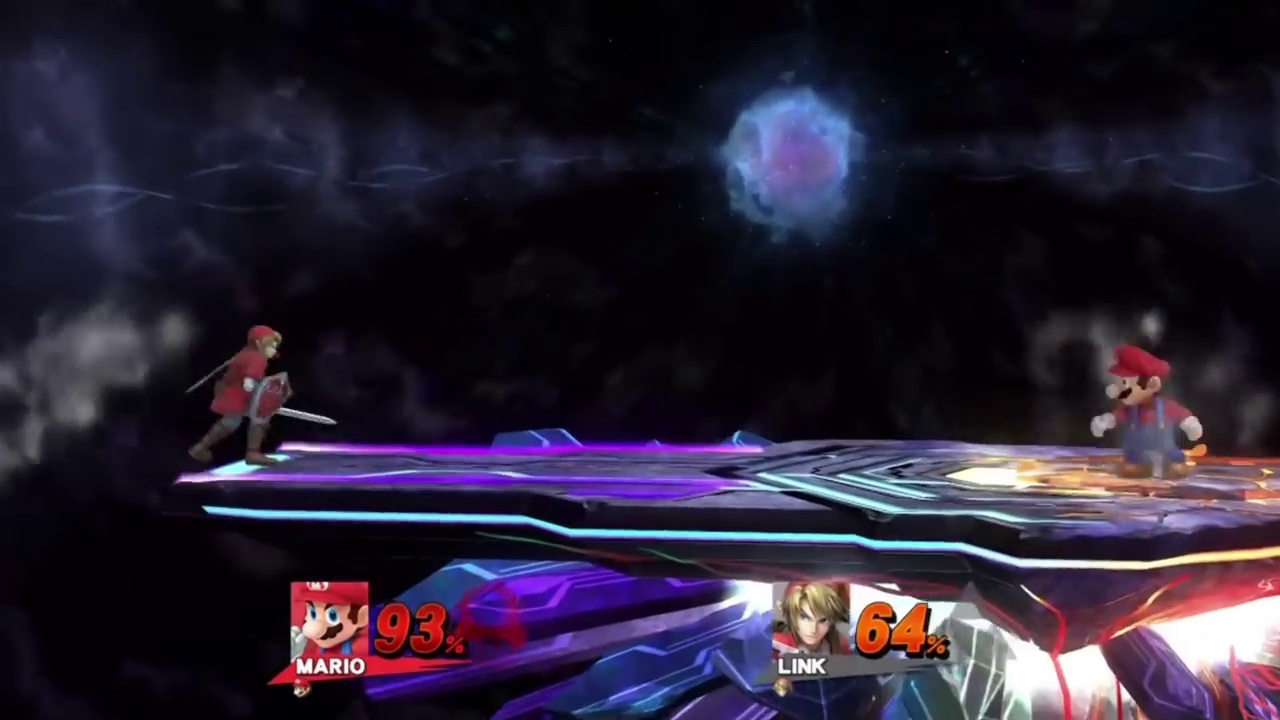Mario: (1092, 345, 1203, 479)
